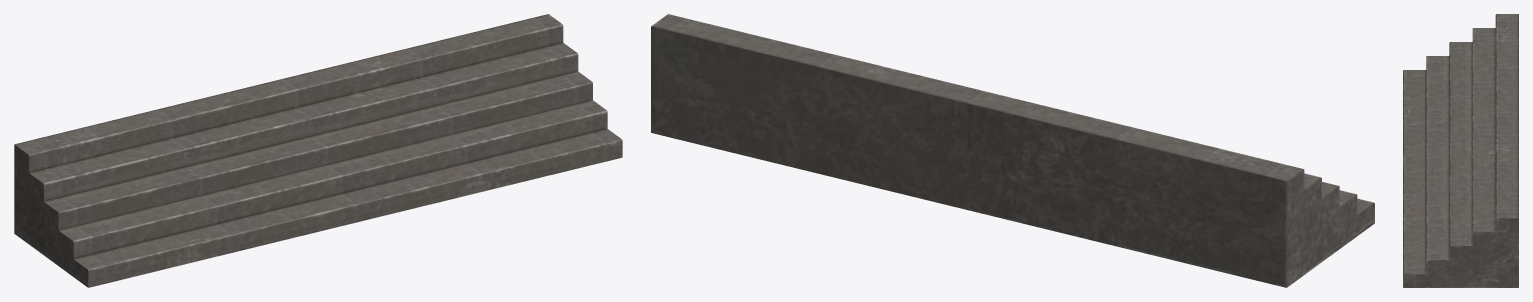
File: SM_Stairs_5.glb
3 views of the same model, side by side, from view 1: azimuth 30°, elevation 25°; view 2: azimuth 150°, elevation 25°; view 3: azimuth 270°, elevation 25° (orthographic). The views are drawn at different scales.
Parts seen in each view (by area): view 1: SM_Stairs_5; view 2: SM_Stairs_5; view 3: SM_Stairs_5.
Part boxes in pixels (x1,y1,x2,y2): SM_Stairs_5: (14,14,622,287); SM_Stairs_5: (651,14,1374,287); SM_Stairs_5: (1403,14,1518,287).
Bounding box in the file's own units: 6.25 × 1 × 1.5.
Materials: 1 (1 with a texture image).
